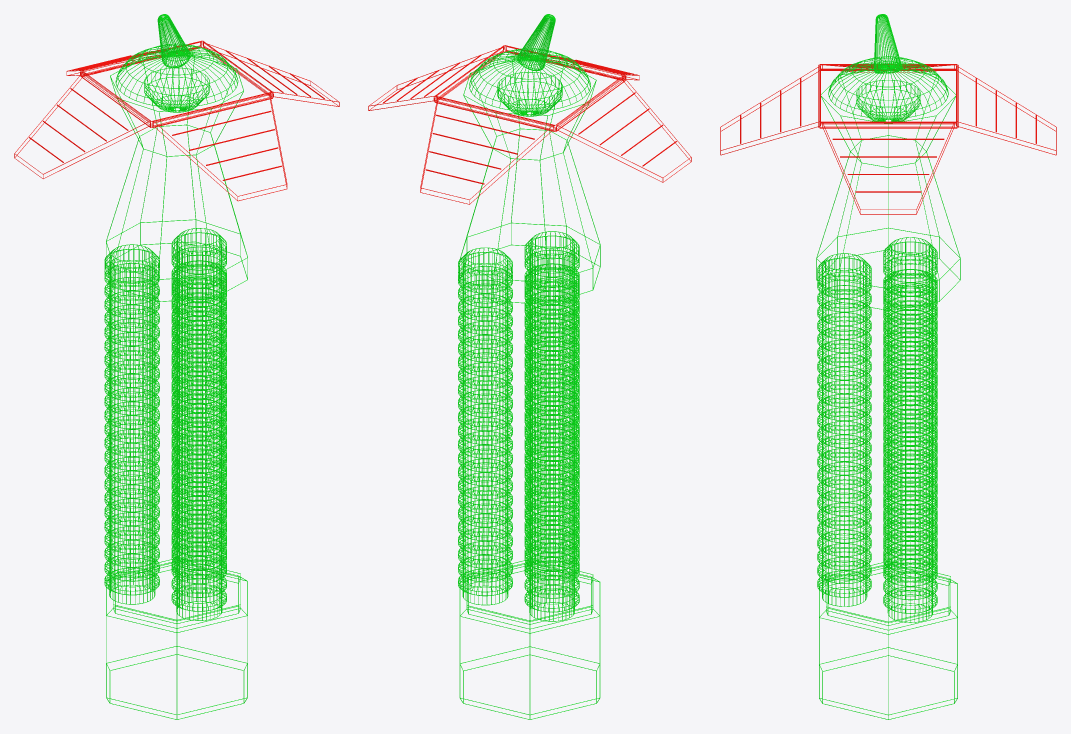
Rendered from solar-matrix-highlight-solar-panels.glb.
3 views of the same model, side by side, from view 1: azimuth 30°, elevation 25°; view 2: azimuth 150°, elevation 25°; view 3: azimuth 270°, elevation 25° (orthographic).
Visible parts, largest first — view 1: storage-cells technical wire, chassis technical wire, laser-turret technical wire, solar-panels technical wire, solar-panels Collector hinge 4 technical wire, solar-panels Collector hinge 3 technical wire, solar-panels Collector hinge 1 technical wire, solar-panels Collector hinge 2 technical wire; view 2: storage-cells technical wire, chassis technical wire, laser-turret technical wire, solar-panels technical wire, solar-panels Collector hinge 2 technical wire, solar-panels Collector hinge 3 technical wire, solar-panels Collector hinge 1 technical wire, solar-panels Collector hinge 4 technical wire; view 3: storage-cells technical wire, chassis technical wire, laser-turret technical wire, solar-panels technical wire, solar-panels Collector hinge 1 technical wire, solar-panels Collector hinge 2 technical wire, solar-panels Collector hinge 4 technical wire.
Boxes of the visible parts, x1,y1,x2,y2 form: storage-cells technical wire: (104,228,226,620); chassis technical wire: (106,55,247,719); laser-turret technical wire: (115,14,238,112); solar-panels technical wire: (80,40,273,127); solar-panels Collector hinge 4 technical wire: (153,94,287,201); solar-panels Collector hinge 3 technical wire: (14,72,150,178); solar-panels Collector hinge 1 technical wire: (203,42,339,106); solar-panels Collector hinge 2 technical wire: (66,42,200,75); storage-cells technical wire: (458,231,579,621); chassis technical wire: (459,59,600,719); laser-turret technical wire: (469,14,590,116); solar-panels technical wire: (433,45,626,131); solar-panels Collector hinge 2 technical wire: (420,98,553,204); solar-panels Collector hinge 3 technical wire: (556,76,691,182); solar-panels Collector hinge 1 technical wire: (368,46,503,110); solar-panels Collector hinge 4 technical wire: (506,46,639,80); storage-cells technical wire: (817,237,937,622); chassis technical wire: (816,66,960,719); laser-turret technical wire: (828,14,948,123); solar-panels technical wire: (818,64,958,128); solar-panels Collector hinge 1 technical wire: (822,123,954,214); solar-panels Collector hinge 2 technical wire: (956,65,1056,155); solar-panels Collector hinge 4 technical wire: (720,65,820,155).
Size of the model in its own units: 1.68 by 3.68 by 1.68.
